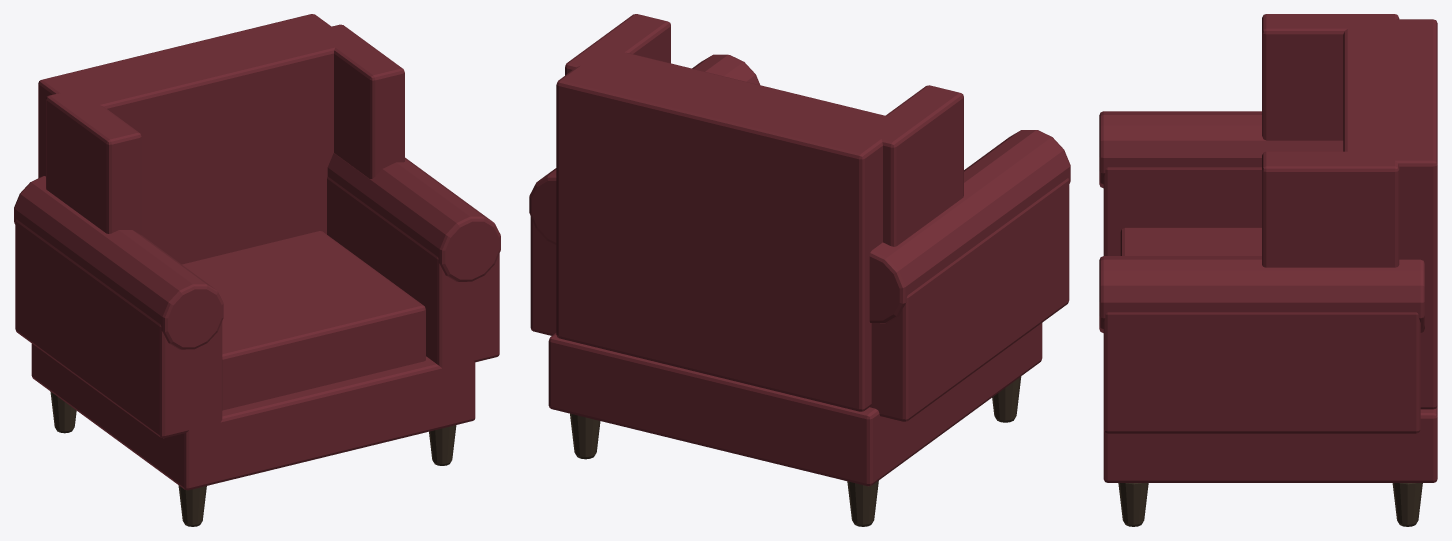
The model's file is SM_Furniture_Armchair_01.glb.
3 views of the same model, side by side, from view 1: azimuth 30°, elevation 25°; view 2: azimuth 150°, elevation 25°; view 3: azimuth 270°, elevation 25° (orthographic). The views are drawn at different scales.
Visible parts, largest first — view 1: SM_Furniture_Armchair_01; view 2: SM_Furniture_Armchair_01; view 3: SM_Furniture_Armchair_01.
Boxes of the visible parts, left/top/right/bottom form: SM_Furniture_Armchair_01: left=14, top=14, right=500, bottom=526; SM_Furniture_Armchair_01: left=529, top=14, right=1070, bottom=526; SM_Furniture_Armchair_01: left=1099, top=14, right=1437, bottom=526.
Size of the model in its own units: 0.98 by 0.95 by 0.79.
